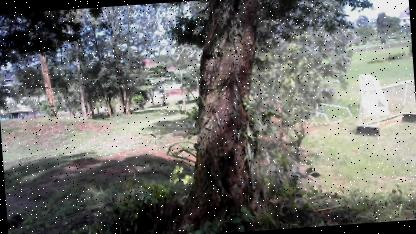tree: (171, 0, 285, 234), (35, 46, 62, 120)
